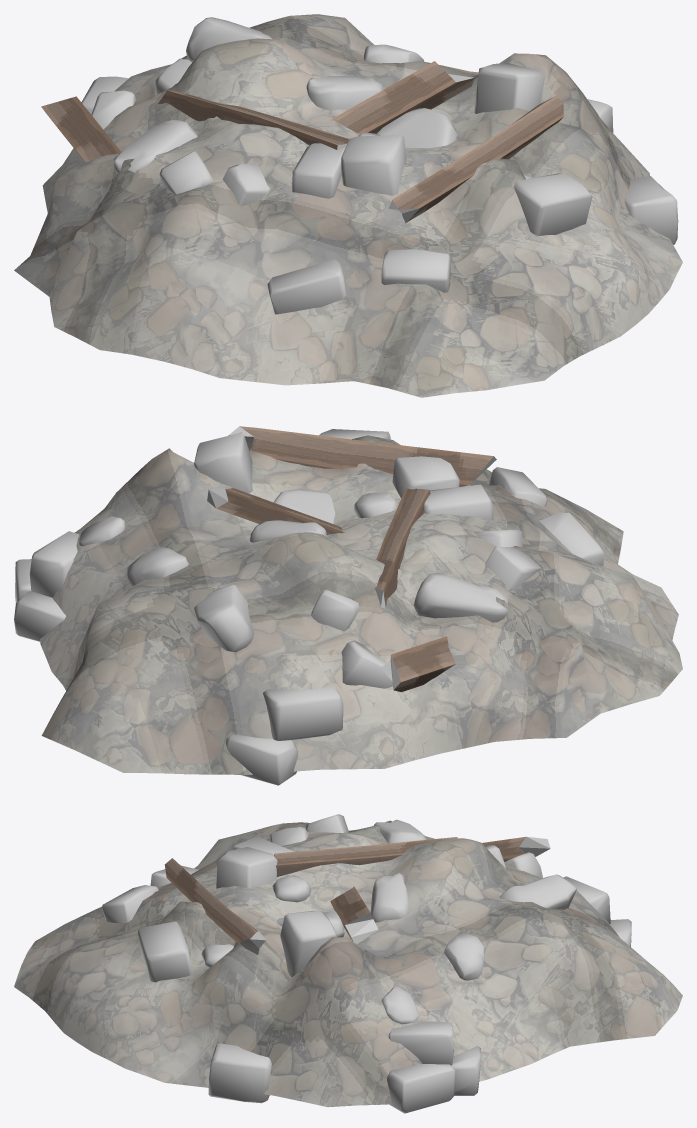
The model's file is SM_Ruins_04.fbx.
3 views of the same model, one above another, from view 1: azimuth 30°, elevation 25°; view 2: azimuth 150°, elevation 25°; view 3: azimuth 270°, elevation 25° (orthographic). The views are drawn at different scales.
Visible parts, largest first — view 1: SM_Ruins_04_LOD0; view 2: SM_Ruins_04_LOD0; view 3: SM_Ruins_04_LOD0.
Boxes of the visible parts, x1,y1,x2,y2 form: SM_Ruins_04_LOD0: [14, 14, 682, 397]; SM_Ruins_04_LOD0: [14, 426, 682, 785]; SM_Ruins_04_LOD0: [14, 814, 682, 1113].
Size of the model in its own units: 704 by 793 by 185.
